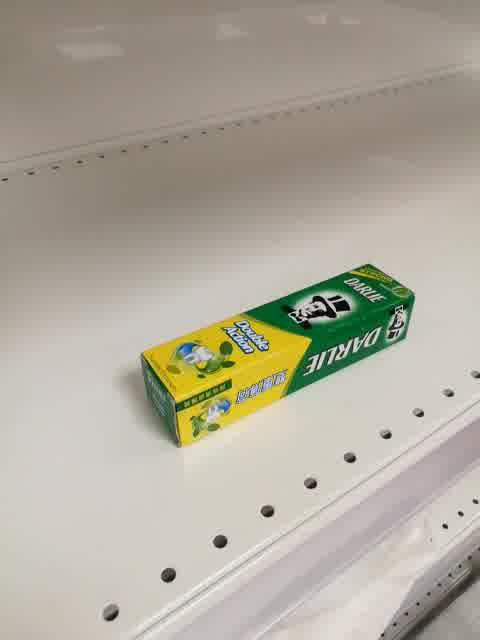toothpaste: (139, 261, 416, 449)
